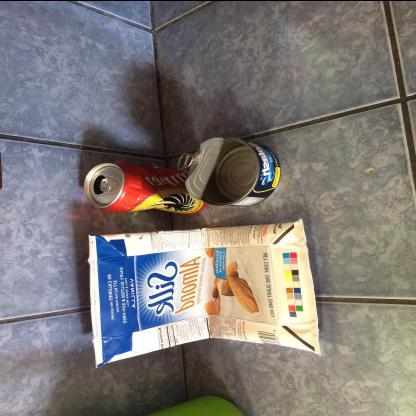karton: (92, 219, 324, 369)
metal: (177, 137, 283, 208), (86, 162, 210, 216)
